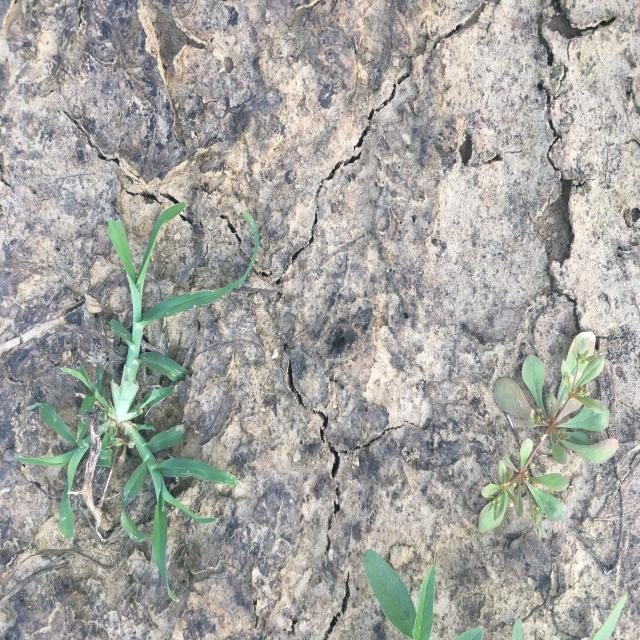Carpetweed: (478, 329, 620, 538)
Goosegrass: (14, 202, 262, 606)
Waterhemp: (360, 543, 484, 639)
